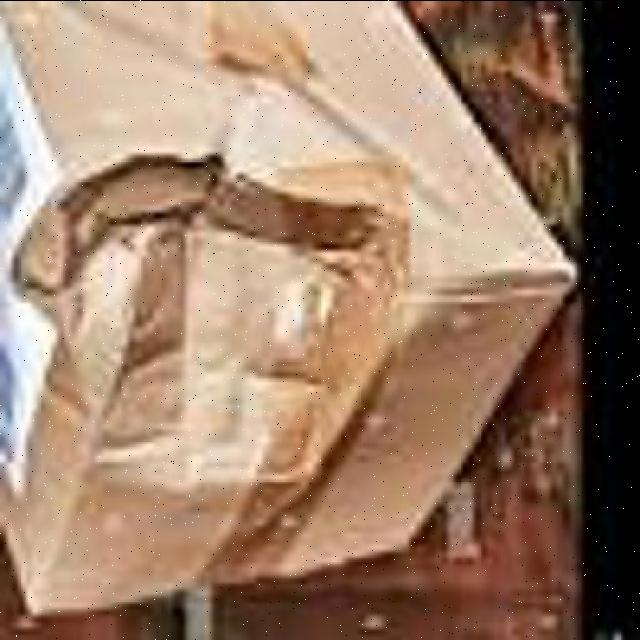defect: (4, 2, 564, 604)
